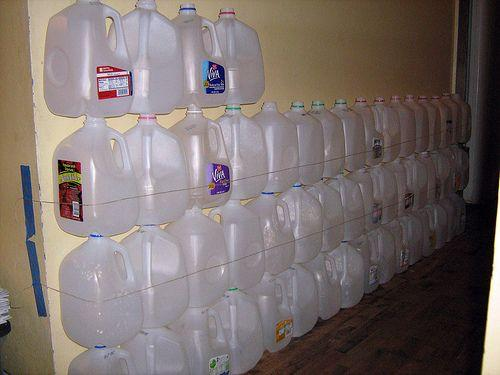LDPE: (331, 92, 471, 232), (42, 0, 133, 119), (52, 118, 140, 238), (58, 235, 141, 346), (104, 0, 184, 114), (112, 113, 190, 225), (117, 225, 190, 327), (162, 209, 232, 308), (164, 2, 229, 108), (167, 108, 233, 209), (200, 8, 266, 105), (208, 104, 269, 200), (206, 201, 265, 290), (242, 191, 295, 275), (251, 101, 299, 193), (272, 182, 324, 264), (279, 101, 324, 185), (303, 101, 345, 177), (302, 180, 345, 254)
